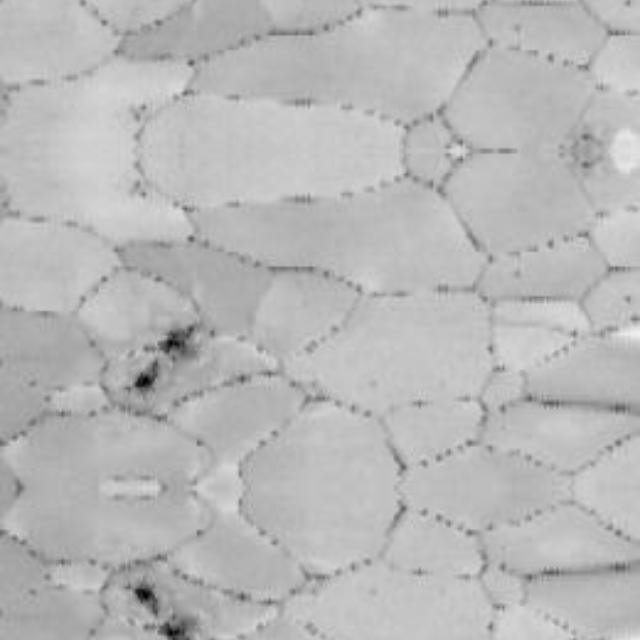good_void: (152, 313, 204, 368), (124, 355, 167, 403), (124, 575, 167, 623), (156, 614, 198, 640)
